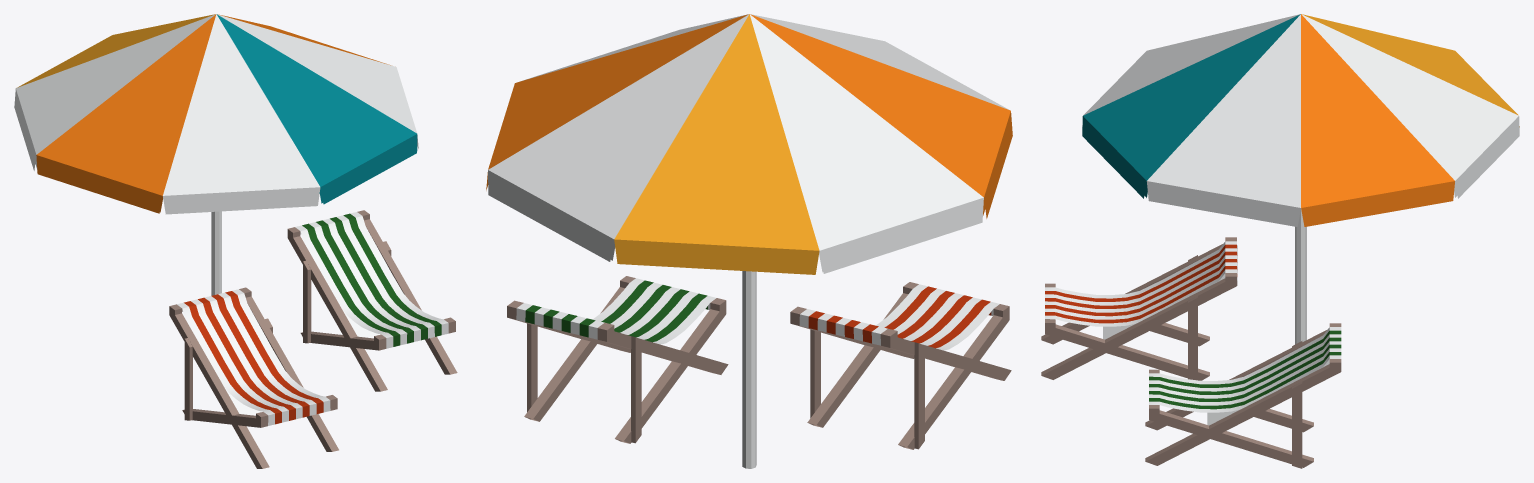
Rendered from M_yizi01.FBX.
3 renders of one model, left to right at view 1: azimuth 30°, elevation 25°; view 2: azimuth 150°, elevation 25°; view 3: azimuth 270°, elevation 25°, orthographic. The views are drawn at different scales.
Parts seen in each view (by area): view 1: M_yizi01_buliao01, M_yizi01_ganzi01; view 2: M_yizi01_buliao01, M_yizi01_ganzi01; view 3: M_yizi01_buliao01, M_yizi01_ganzi01.
Boxes of the visible parts, x1,y1,x2,y2 form: M_yizi01_buliao01: (14, 14, 457, 468); M_yizi01_ganzi01: (211, 211, 221, 295); M_yizi01_buliao01: (486, 14, 1012, 449); M_yizi01_ganzi01: (742, 271, 756, 468); M_yizi01_buliao01: (1041, 14, 1519, 468); M_yizi01_ganzi01: (1295, 208, 1306, 344).
Size of the model in its own units: 5.03 by 4.68 by 5.5.
